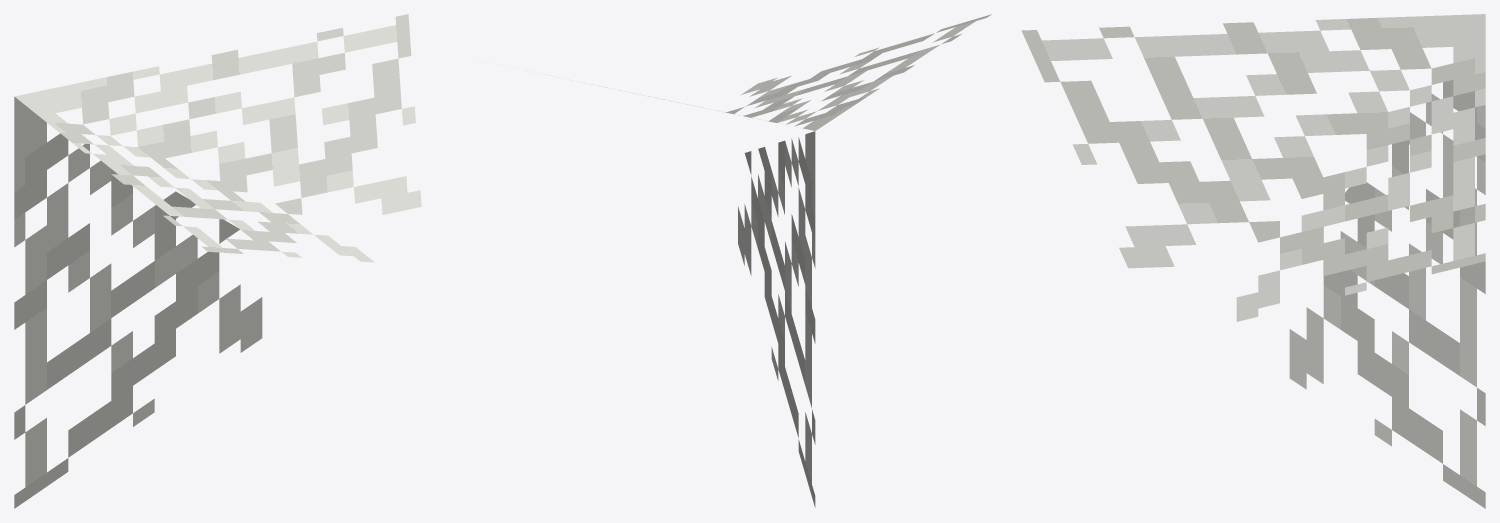
The model's file is cobweb-corner-a.glb.
3 renders of one model, left to right at view 1: azimuth 30°, elevation 25°; view 2: azimuth 150°, elevation 25°; view 3: azimuth 270°, elevation 25°, orthographic. The views are drawn at different scales.
Parts seen in each view (by area): view 1: cobweb-corner-a.001; view 2: cobweb-corner-a.001; view 3: cobweb-corner-a.001.
Boxes of the visible parts, box(x1,y1,x2,y2) form: cobweb-corner-a.001: box(14, 14, 421, 508); cobweb-corner-a.001: box(533, 14, 991, 507); cobweb-corner-a.001: box(1021, 14, 1485, 508).
Size of the model in its own units: 0.6 by 0.6 by 0.51.
1 material, 1 textured.
